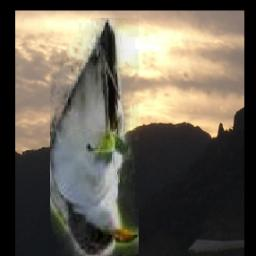Cuckoo: (49, 18, 138, 256)
